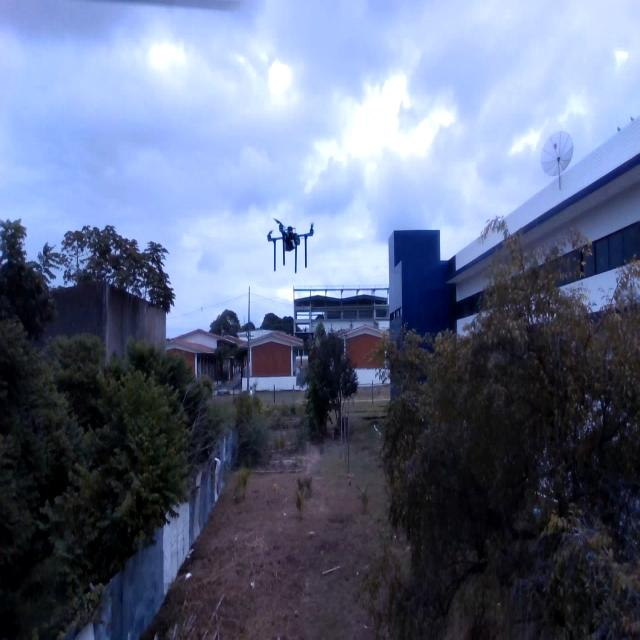-uav-: (261, 204, 320, 280)
